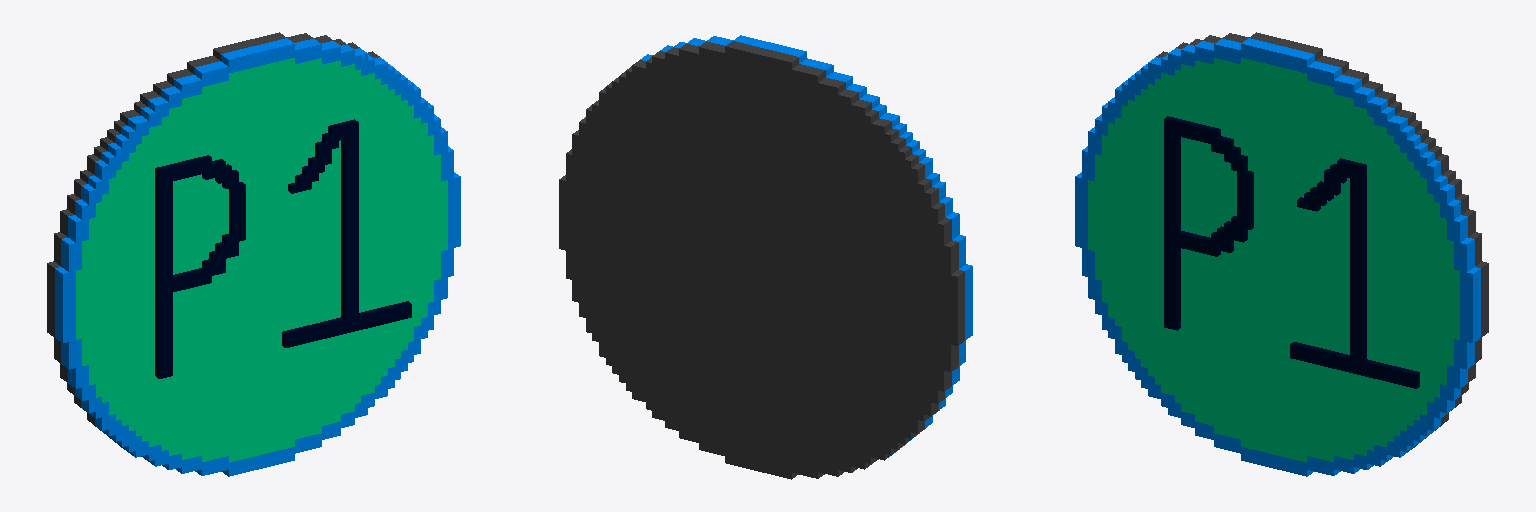
3 views of the same model, side by side, from view 1: azimuth 30°, elevation 25°; view 2: azimuth 150°, elevation 25°; view 3: azimuth 330°, elevation 25° (orthographic).
Bounding box in the file's own units: 60 × 60 × 5.
Materials: 1 (1 with a texture image).